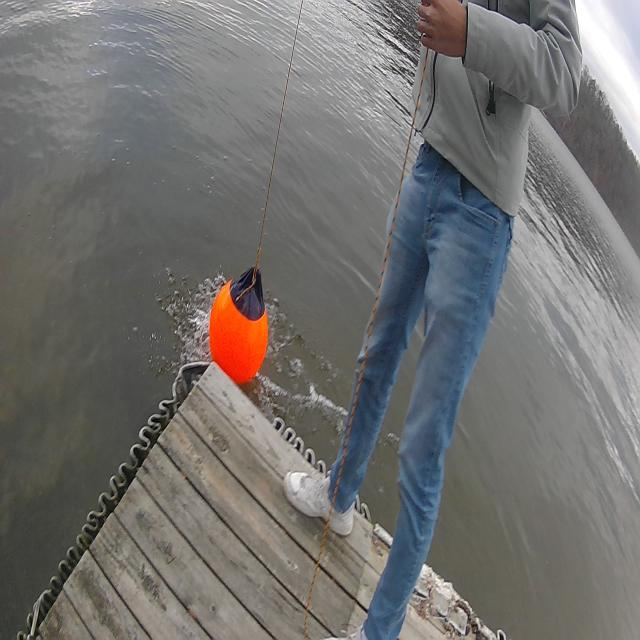Buoy: (203, 257, 273, 388)
